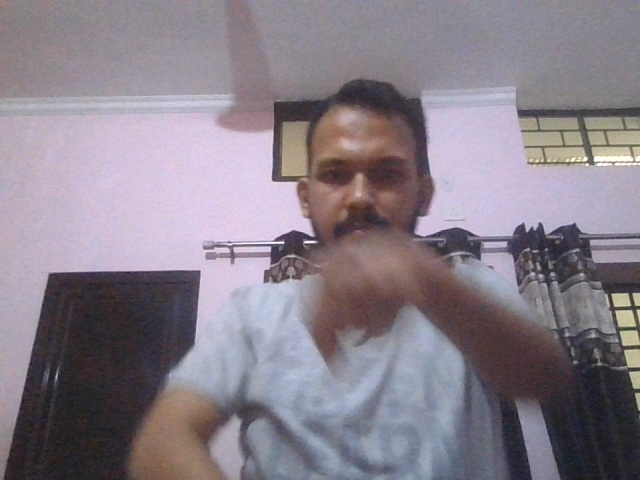yes: (318, 227, 424, 348)
